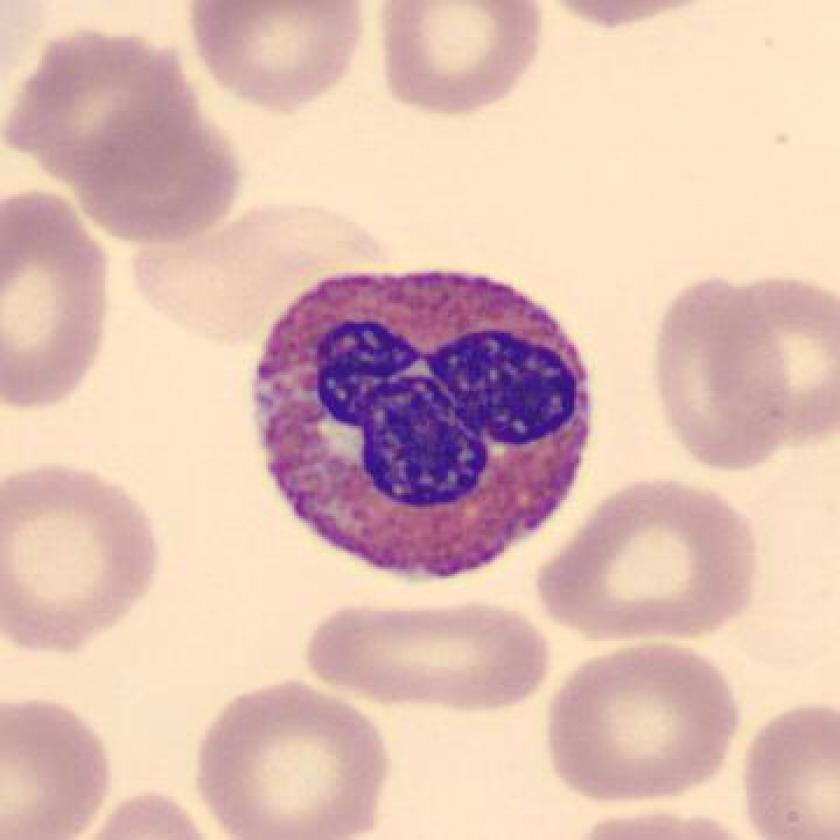eosinophil: (246, 251, 610, 591)
